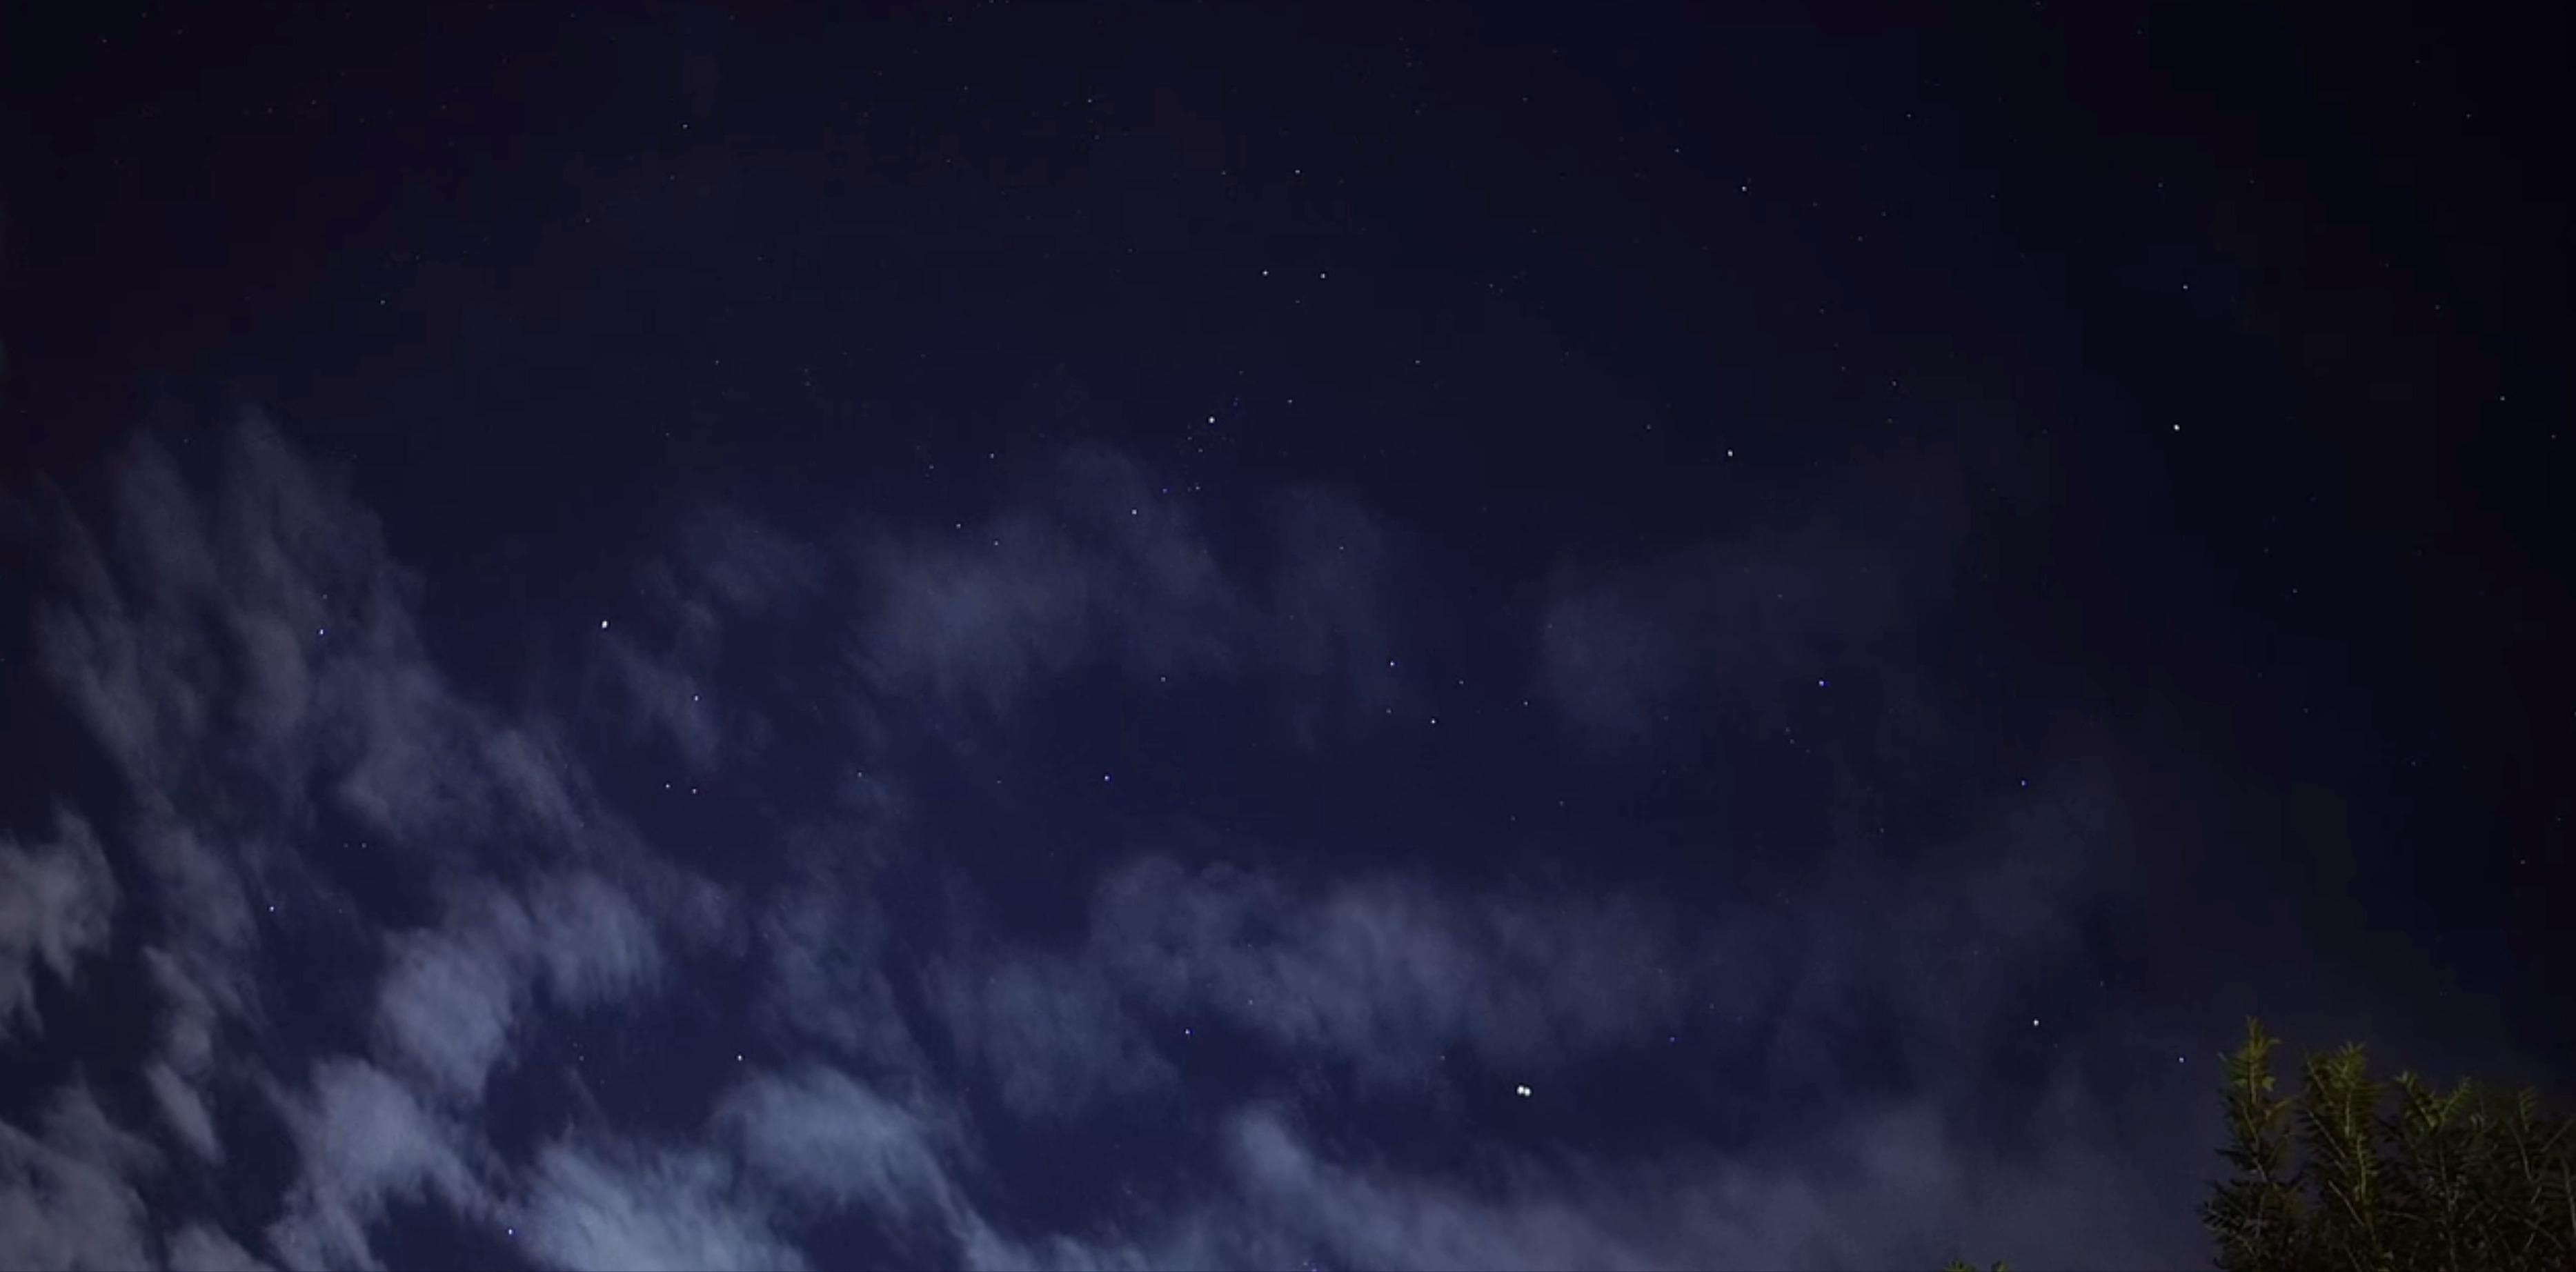Plane: (1498, 1067, 1544, 1116)
